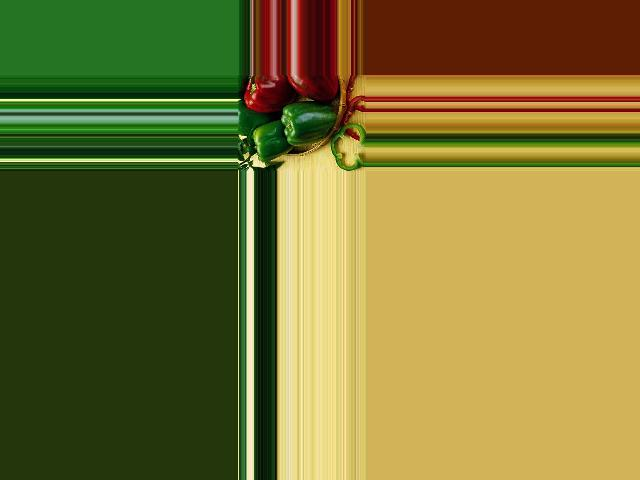bell_pepper: (286, 75, 339, 99)
